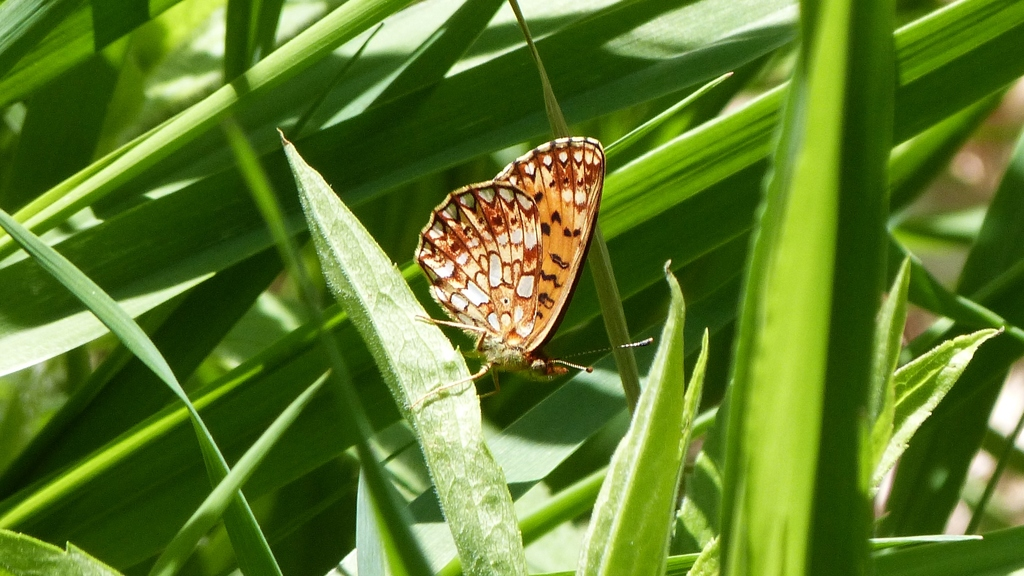Butterfly: (397, 125, 623, 428)
